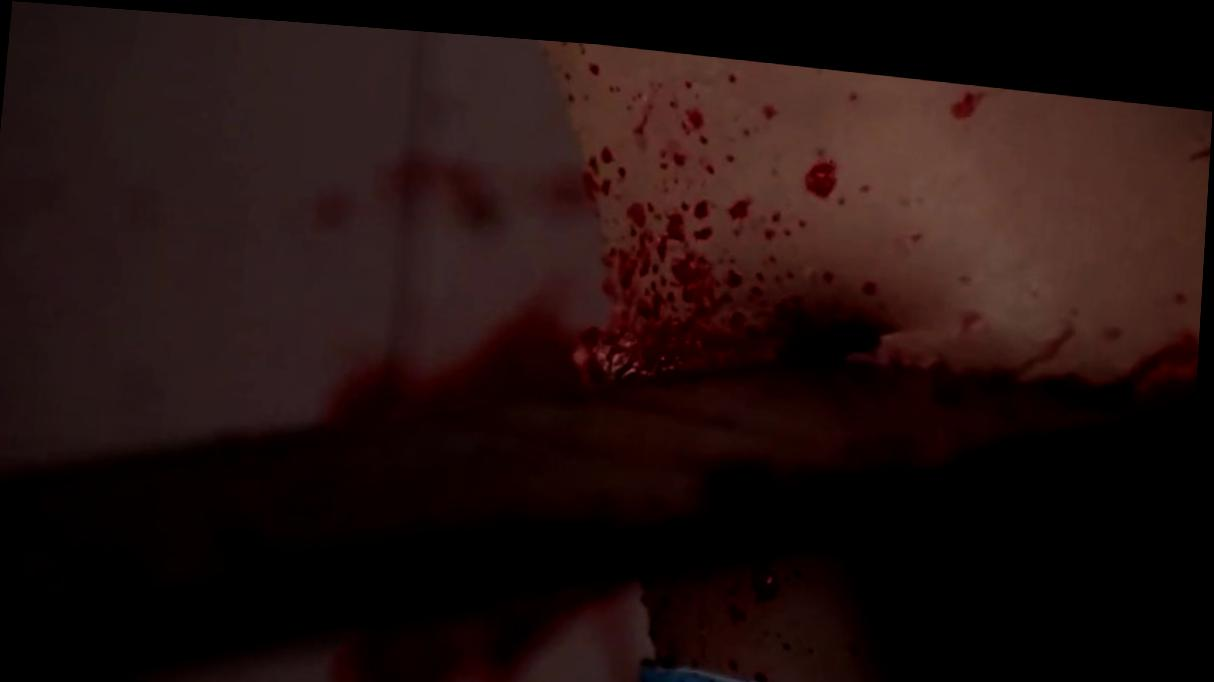Fire: (0, 31, 1213, 682)
